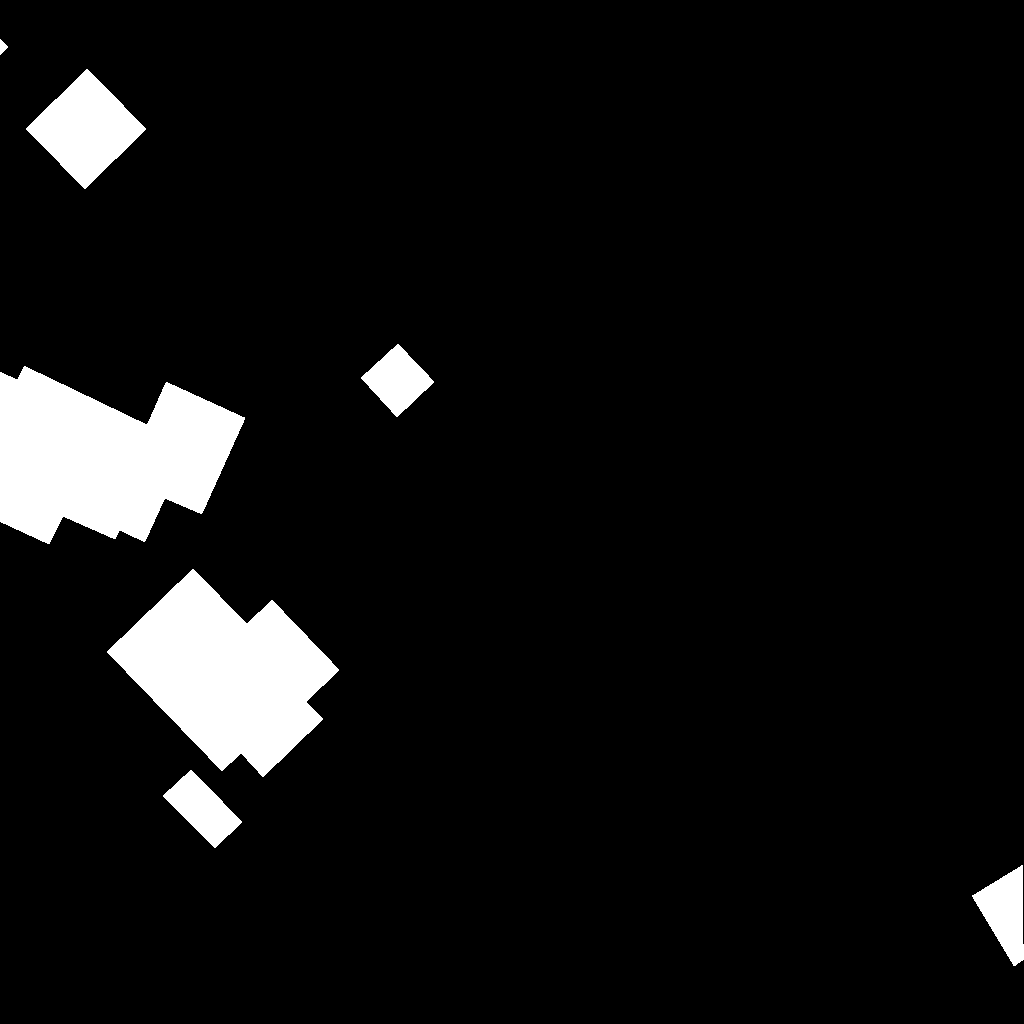building: (107, 569, 340, 778), (0, 366, 246, 545), (26, 69, 147, 190), (163, 770, 243, 849), (361, 344, 435, 418), (972, 865, 1024, 967), (0, 39, 9, 56)
